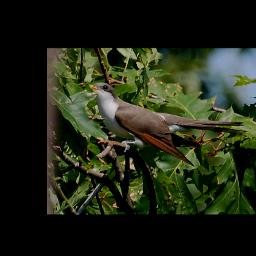Cuckoo: (89, 82, 248, 166)
